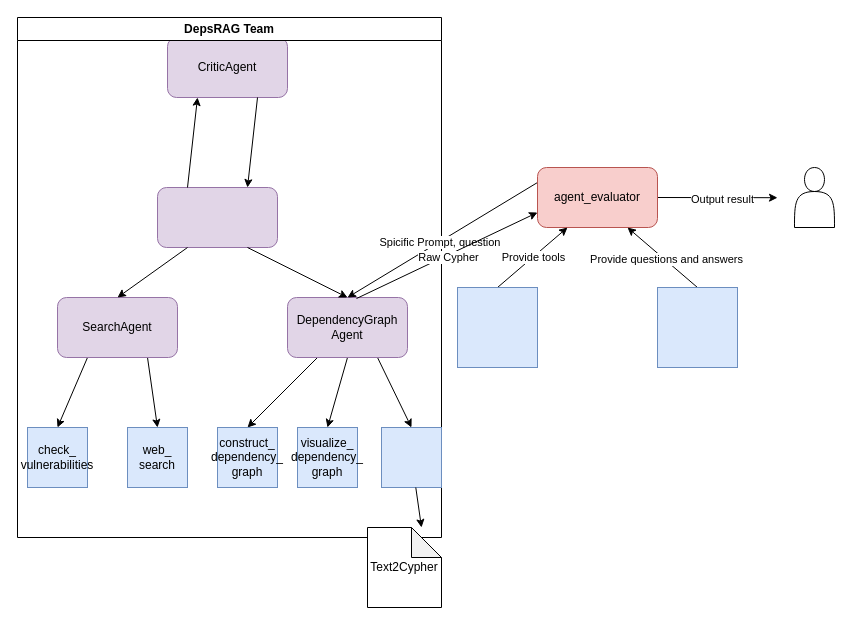
Some shapes in this 852 by 625 pixel diagram are drawn without their labels. Here are the shapes that lost their labels. From the top down, the centre of each, then its label:
the point at 217,217: AssistantAgent
the point at 497,327: evaluator.py
the point at 697,327: toy_dataset .json
the point at 411,457: execute_ cypher_ query
